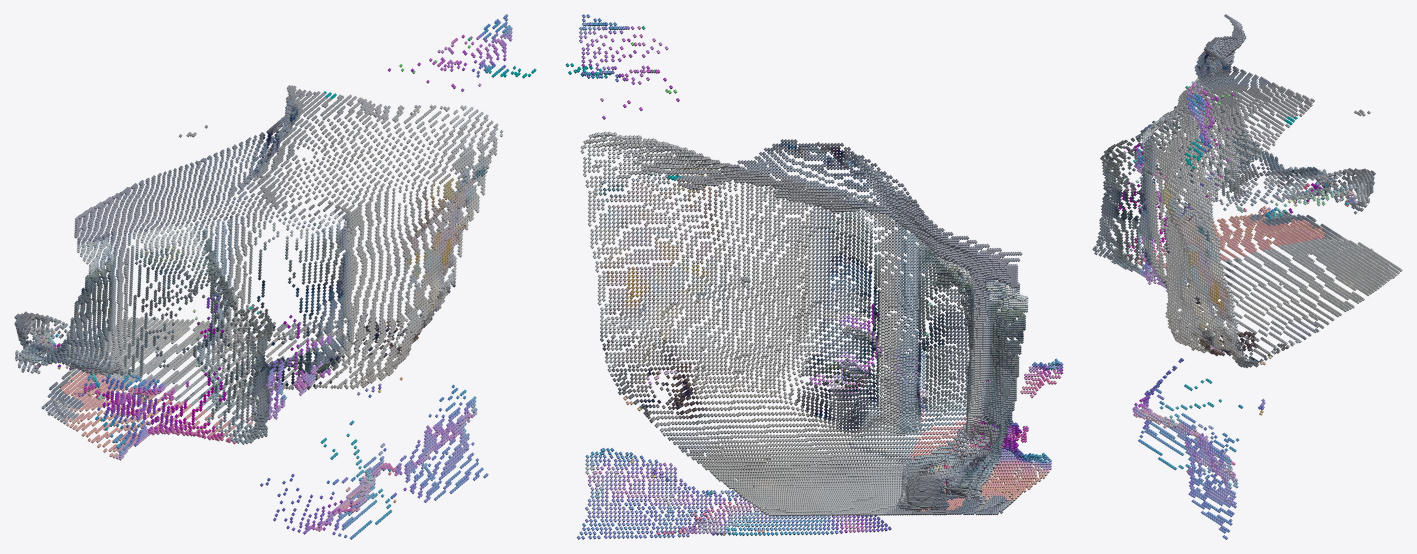
The model's file is combine_pred.glb.
3 renders of one model, left to right at view 1: azimuth 30°, elevation 25°; view 2: azimuth 150°, elevation 25°; view 3: azimuth 270°, elevation 25°, orthographic. The views are drawn at different scales.
Parts seen in each view (by area): view 1: world; view 2: world; view 3: world.
Part boxes in pixels (<box>): world: <box>14,14,536,539</box>; world: <box>565,14,1063,539</box>; world: <box>1092,14,1402,539</box>.
Bounding box in the file's own units: 6.99 × 6.97 × 4.44.
